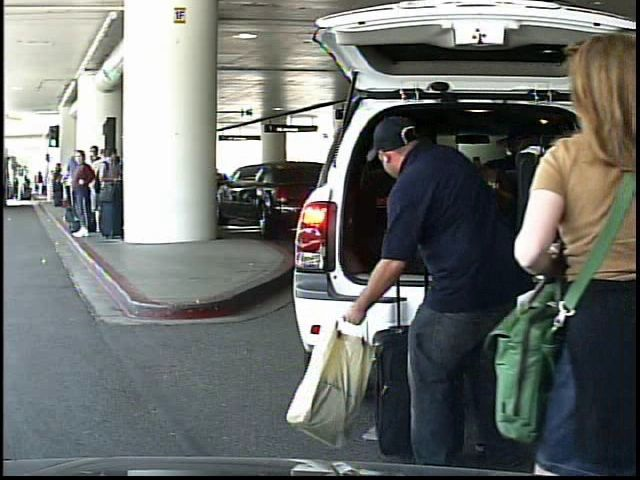person: (345, 110, 514, 466), (17, 174, 28, 205), (36, 172, 46, 199)
